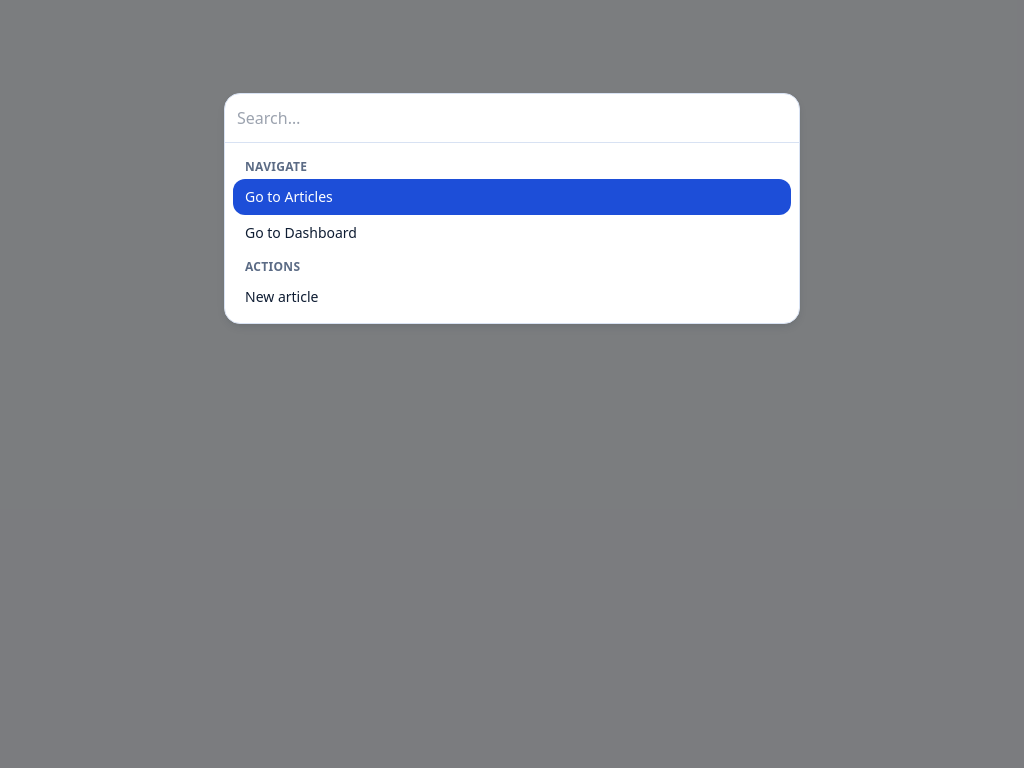
Test: <CommandPalette /> › merges async search results
Type "dri" into the dropdown at (512, 118), box [237,106,787,130]
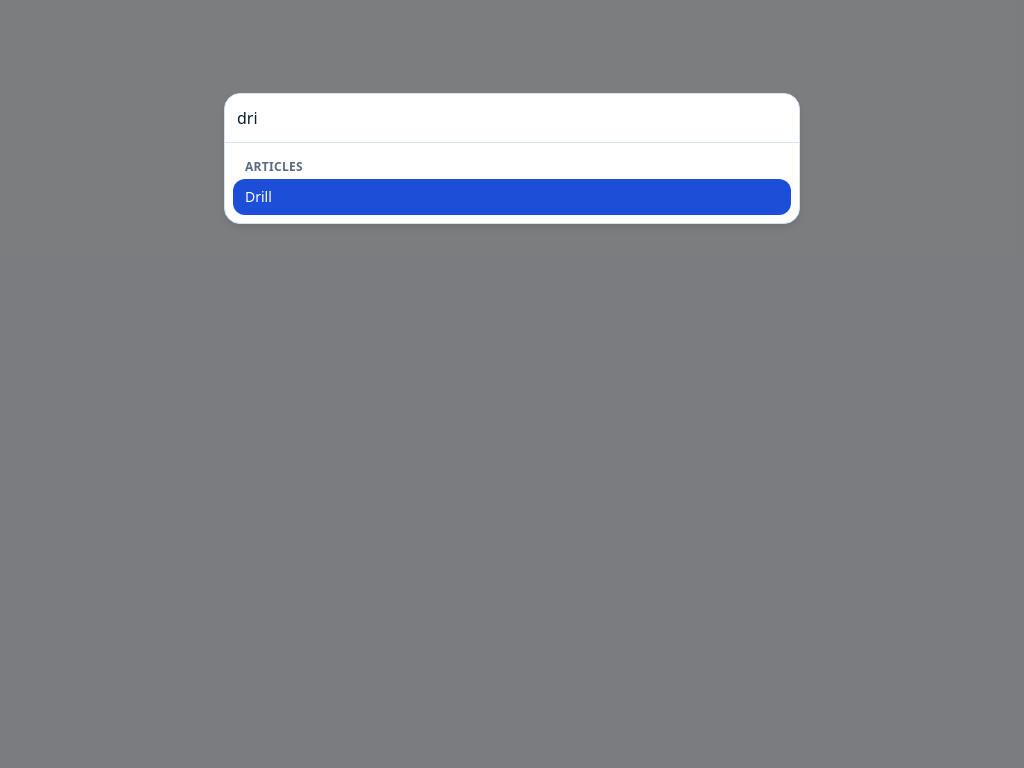
expect the option "Drill" is shown: met, box [233,179,791,215]
